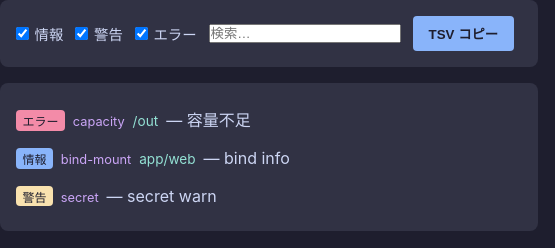
Test: DryRunResultList › 検索で絞り込み
Type "bind" into the search field named "結果検索" at (305, 34), box [209, 24, 401, 43]
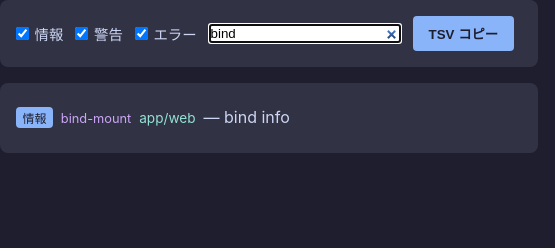
Expected: the text "— bind info" is shown, [204, 107, 290, 127]
Now the text "容量不足" is gone
